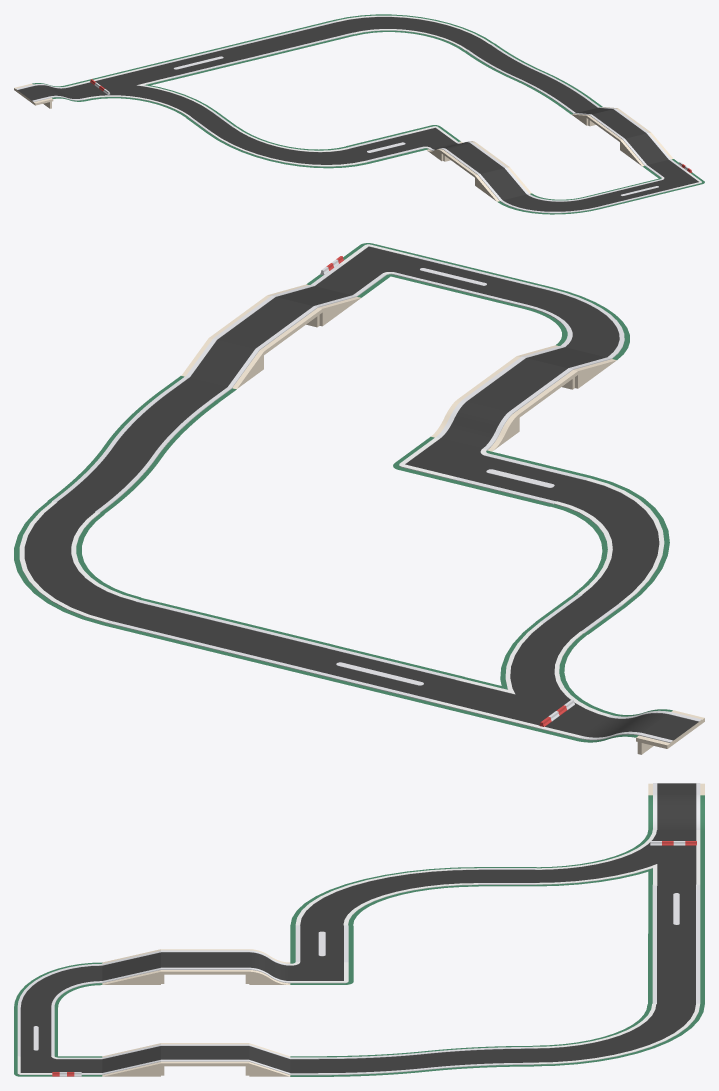
File: race1.glb
3 views of the same model, one above another, from view 1: azimuth 30°, elevation 25°; view 2: azimuth 150°, elevation 25°; view 3: azimuth 270°, elevation 25° (orthographic). The views are drawn at different scales.
Visible parts, largest first — view 1: mergedBlocks(Clone); view 2: mergedBlocks(Clone); view 3: mergedBlocks(Clone).
Boxes of the visible parts, x1,y1,x2,y2 form: mergedBlocks(Clone): [14, 14, 704, 214]; mergedBlocks(Clone): [14, 243, 704, 754]; mergedBlocks(Clone): [14, 783, 704, 1076].
Size of the model in its own units: 22.54 by 0.52 by 23.5.
